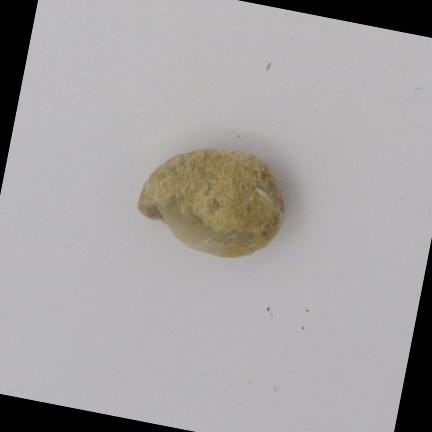immature: (138, 150, 283, 257)
